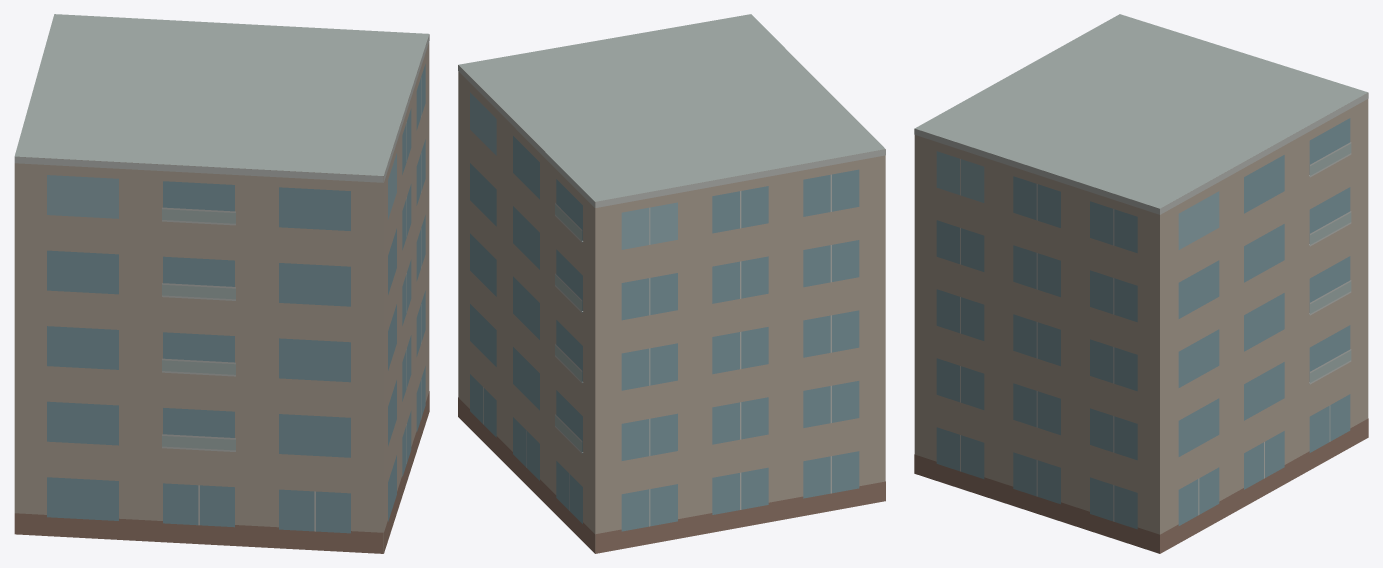
File: survey-upis-32990007.glb
3 renders of one model, left to right at view 1: azimuth 30°, elevation 25°; view 2: azimuth 150°, elevation 25°; view 3: azimuth 270°, elevation 25°, orthographic. The views are drawn at different scales.
Parts seen in each view (by area): view 1: survey-upis-32990007.tmp; view 2: survey-upis-32990007.tmp; view 3: survey-upis-32990007.tmp.
Part boxes in pixels (left/top/right/bottom): survey-upis-32990007.tmp: left=14, top=14, right=429, bottom=553; survey-upis-32990007.tmp: left=458, top=14, right=885, bottom=553; survey-upis-32990007.tmp: left=914, top=14, right=1368, bottom=553.
Bounding box in the file's own units: 16.53 × 13.65 × 16.28.
